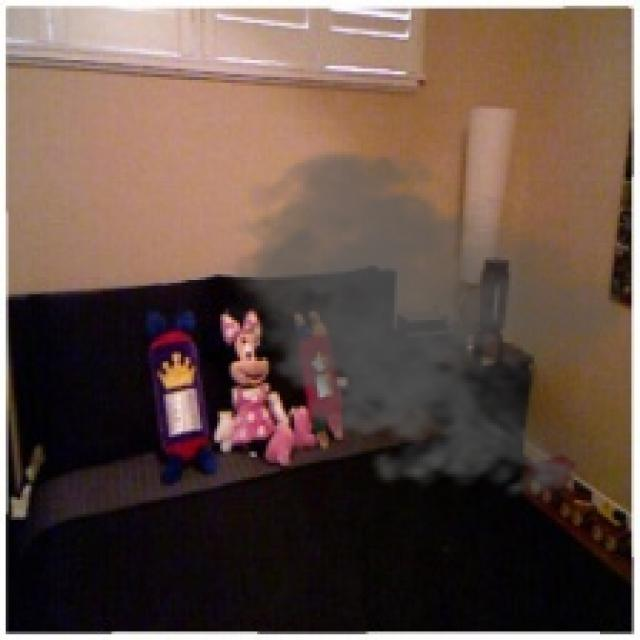smoke: (214, 143, 620, 508)
